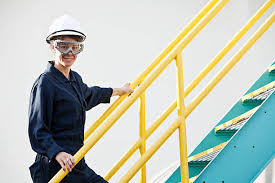Person_wearing_helmet: (41, 11, 89, 48)
